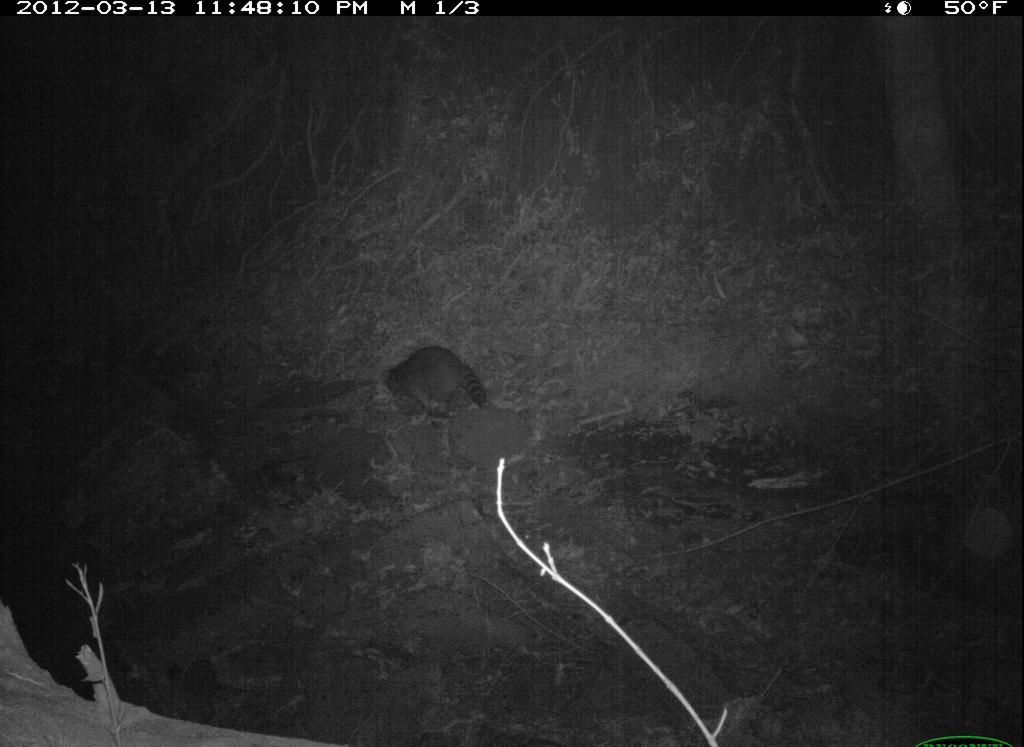raccoon: (379, 341, 500, 428)
